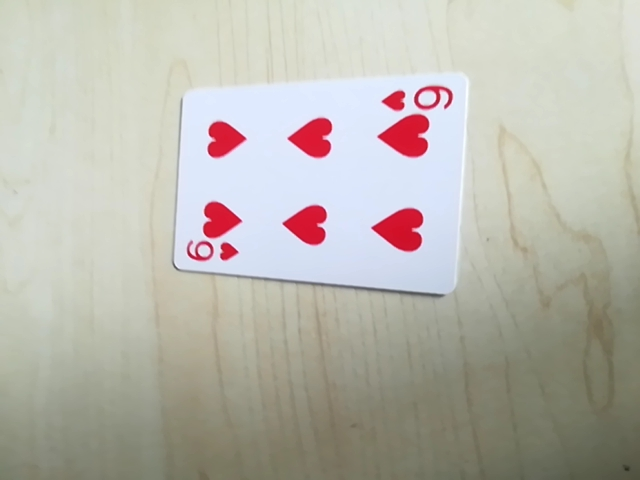hx 6: (378, 78, 455, 117), (180, 238, 240, 269)
